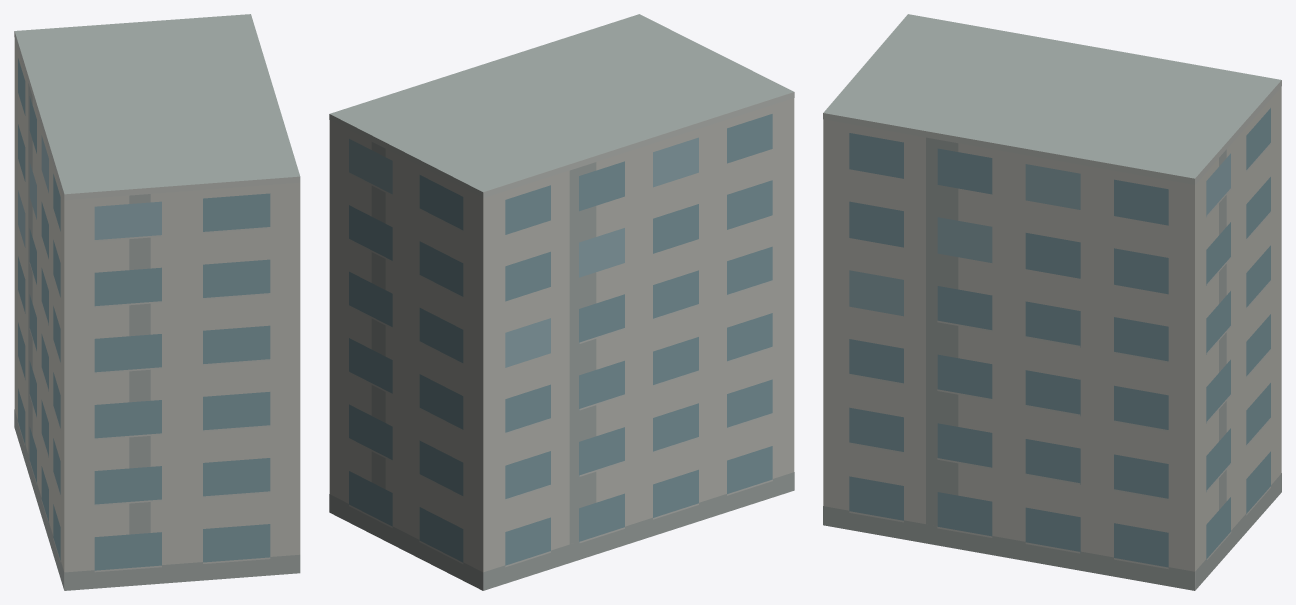
Rendered from survey-upis-32891019.glb.
3 views of the same model, side by side, from view 1: azimuth 30°, elevation 25°; view 2: azimuth 150°, elevation 25°; view 3: azimuth 270°, elevation 25° (orthographic). The views are drawn at different scales.
Visible parts, largest first — view 1: survey-upis-32891019.tmp; view 2: survey-upis-32891019.tmp; view 3: survey-upis-32891019.tmp.
Part boxes in pixels (x1,y1,x2,y2): survey-upis-32891019.tmp: (14, 14, 300, 590); survey-upis-32891019.tmp: (329, 14, 794, 590); survey-upis-32891019.tmp: (823, 14, 1281, 590).
Bounding box in the file's own units: 13.46 × 15.7 × 15.84.
